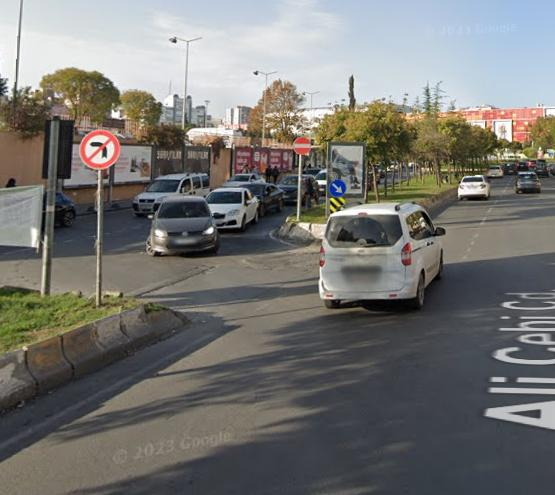leftturnsareforbidden: (80, 130, 120, 168)
